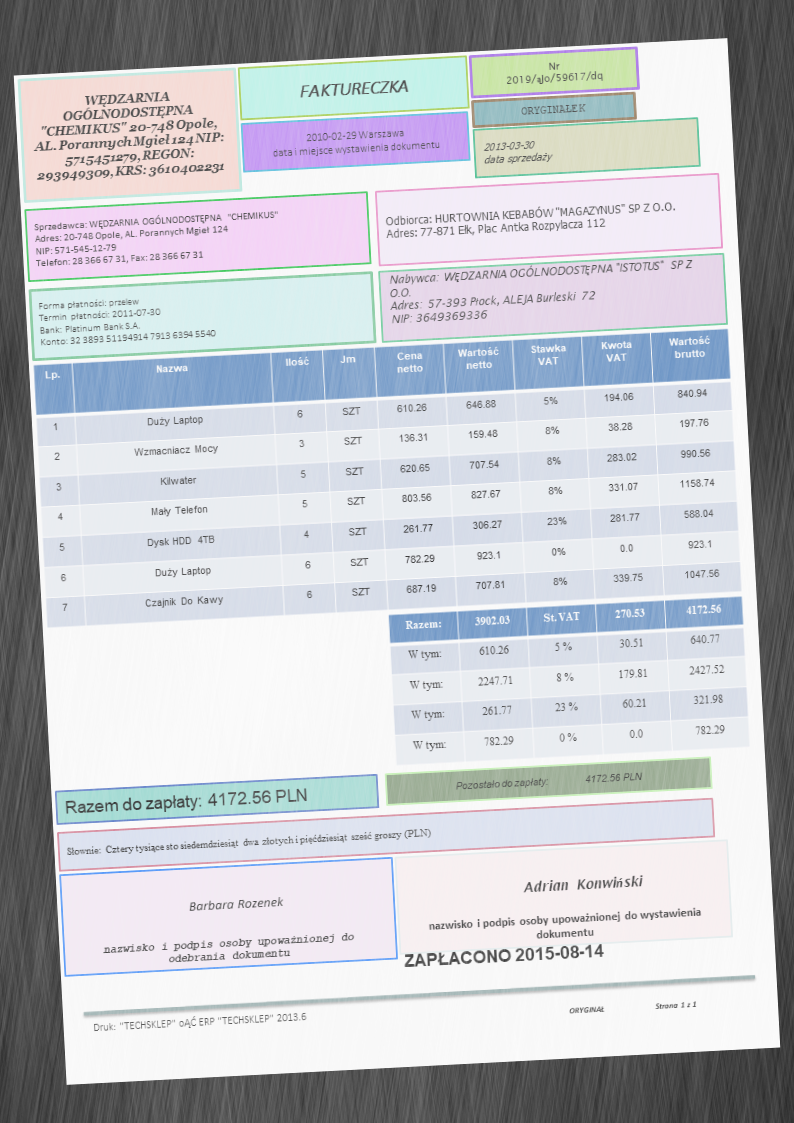Table: (31, 327, 744, 631), (386, 594, 752, 768)
TextBox: (385, 254, 698, 327), (28, 86, 230, 186), (30, 207, 284, 272), (382, 197, 679, 244), (64, 824, 433, 861), (426, 903, 707, 946), (101, 926, 358, 969), (36, 289, 216, 348), (63, 783, 310, 819), (268, 122, 442, 161), (400, 939, 604, 971), (89, 1006, 311, 1035), (452, 768, 644, 795), (503, 56, 606, 89), (520, 873, 645, 896), (296, 75, 410, 100), (567, 996, 700, 1017), (480, 134, 556, 169), (185, 893, 288, 915), (517, 99, 589, 118)
